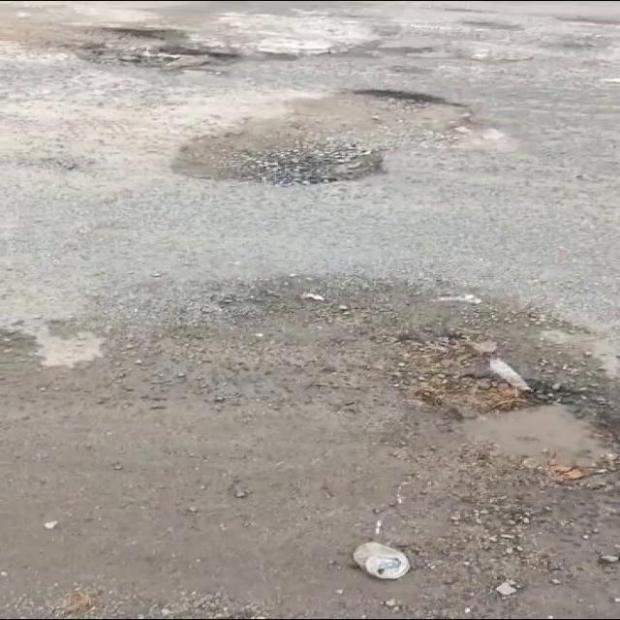lubang: (351, 297, 619, 485), (173, 90, 502, 184), (80, 20, 239, 75)
